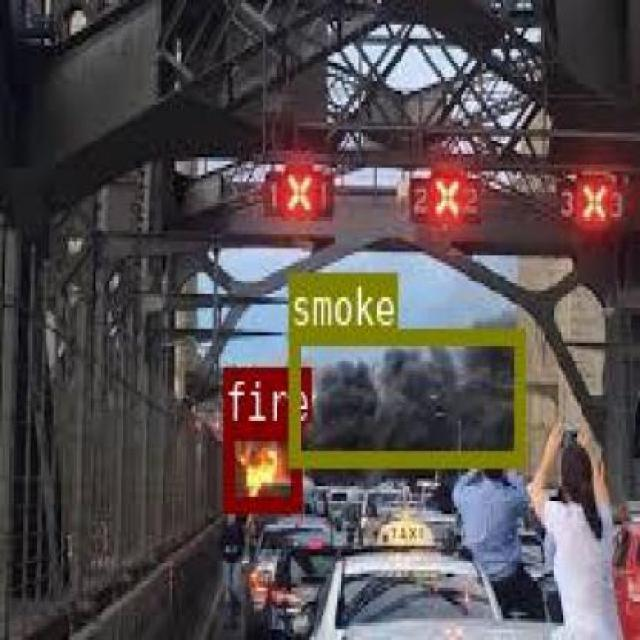CIV_Plane: (223, 422, 300, 508)
Fire: (223, 422, 300, 508)
Smoke: (285, 360, 522, 431)
